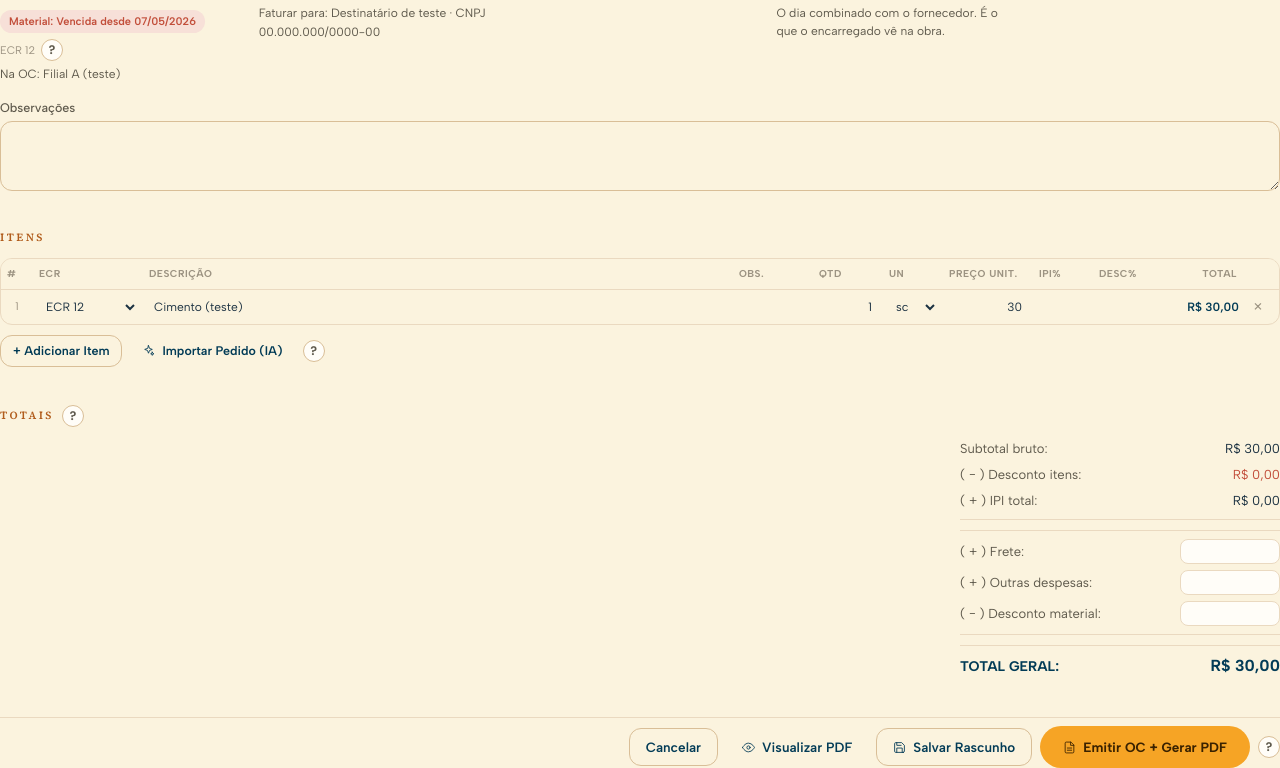
Scenario: D605 — a porta "Emitir OC" da Nova OC › qualificação vencida: zero gravação, com a data do vencimento no motivo
(page scrolled)
Click the button "Emitir OC + Gerar PDF": (1145, 747) top-left (1040, 726), bottom-right (1250, 767)
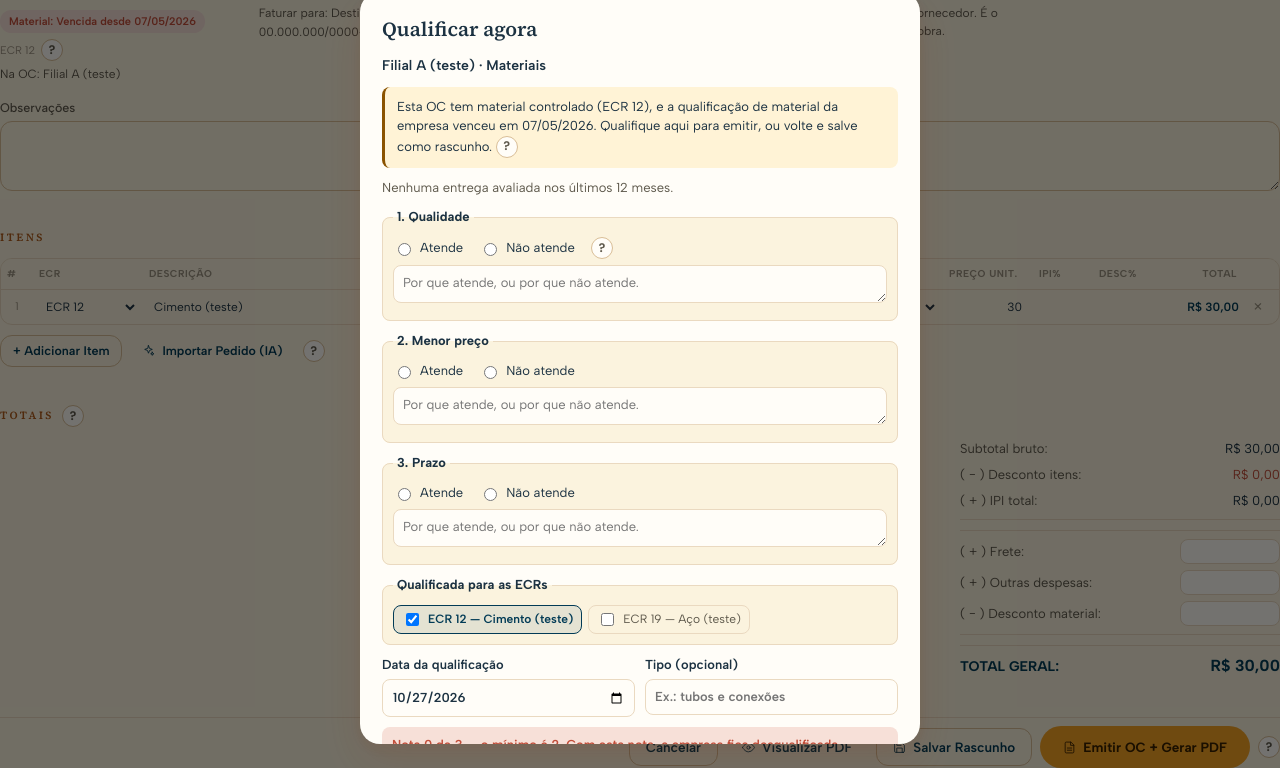
Check: the text "venceu em 07/05/2026" is shown, box top-left (397, 99), bottom-right (858, 154)
